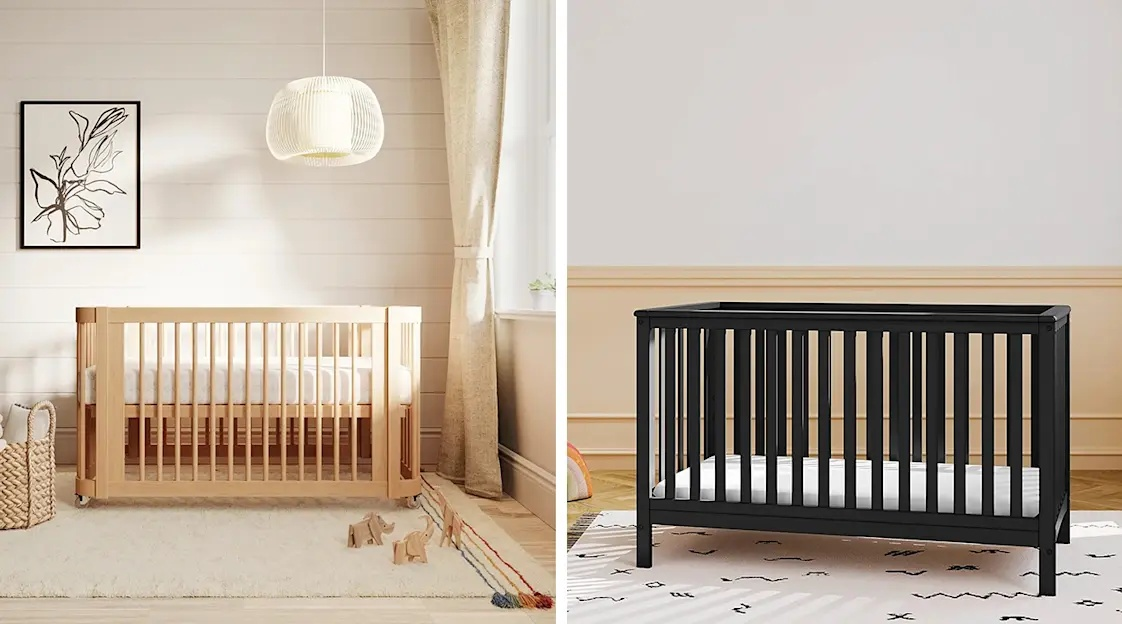crib: (637, 303, 1069, 594), (76, 306, 420, 502)
